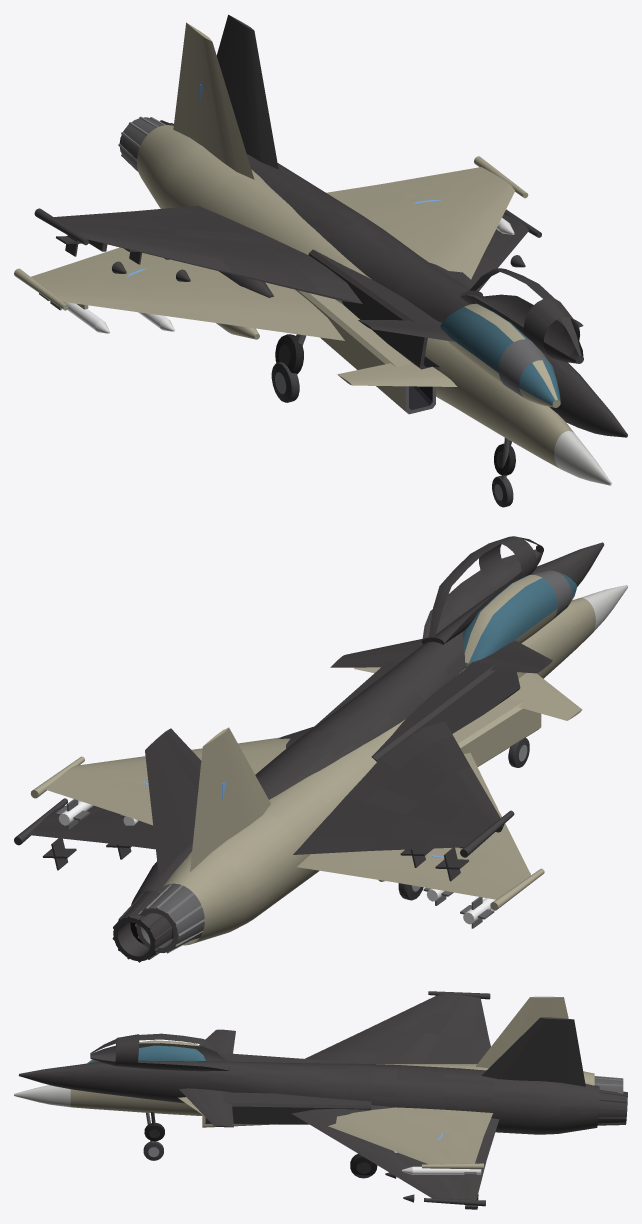
File: jet__gripen_e.glb
3 views of the same model, one above another, from view 1: azimuth 30°, elevation 25°; view 2: azimuth 150°, elevation 25°; view 3: azimuth 270°, elevation 25° (orthographic). The views are drawn at different scales.
Visible parts, largest first — view 1: Fuselage_Mesh, Wreck; view 2: Wreck, Fuselage_Mesh; view 3: Wreck, Fuselage_Mesh.
Boxes of the visible parts, box(x1,y1,x2,y2) form: Fuselage_Mesh: box(14, 22, 611, 507); Wreck: box(34, 14, 627, 475); Wreck: box(14, 536, 604, 962); Fuselage_Mesh: box(30, 570, 627, 953); Wreck: box(18, 991, 627, 1209); Fuselage_Mesh: box(14, 996, 623, 1179).
Size of what is drawn, in the model's own units: 9.04 by 4.5 by 15.35.
